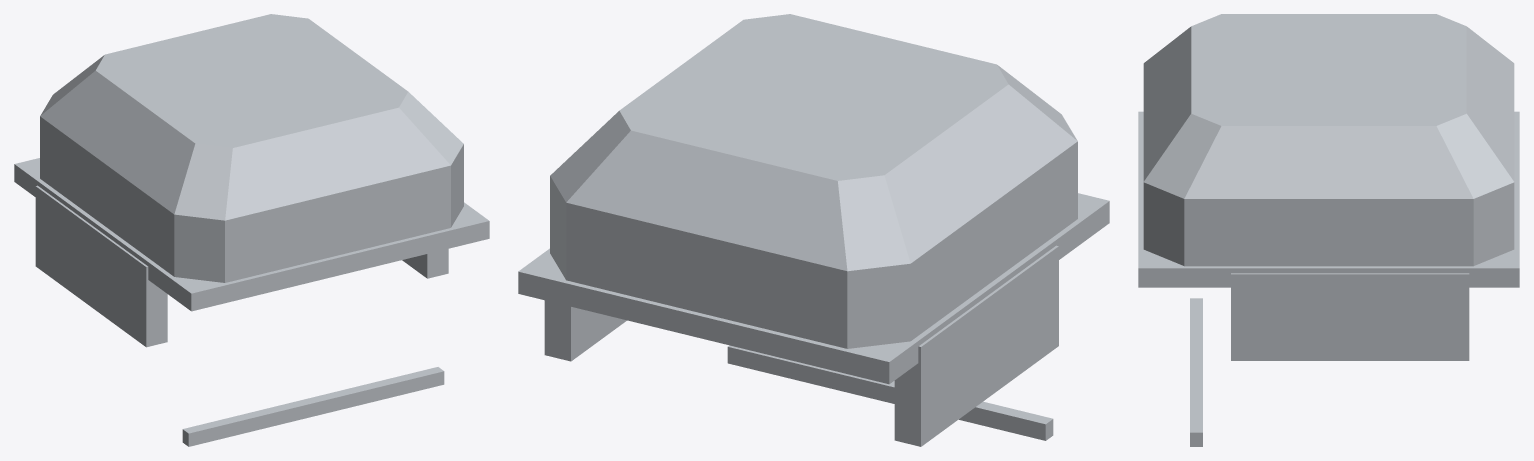
Rendered from npc_gear_helmet_combat.fbx.
3 views of the same model, side by side, from view 1: azimuth 30°, elevation 25°; view 2: azimuth 150°, elevation 25°; view 3: azimuth 270°, elevation 25° (orthographic). The views are drawn at different scales.
Visible parts, largest first — view 1: npc_gear_helmet_combat; view 2: npc_gear_helmet_combat; view 3: npc_gear_helmet_combat.
Boxes of the visible parts, <box> form: npc_gear_helmet_combat: <box>14,14,489,446</box>; npc_gear_helmet_combat: <box>518,14,1109,446</box>; npc_gear_helmet_combat: <box>1138,14,1519,446</box>.
Bounding box in the file's own units: 142 × 129 × 144.
